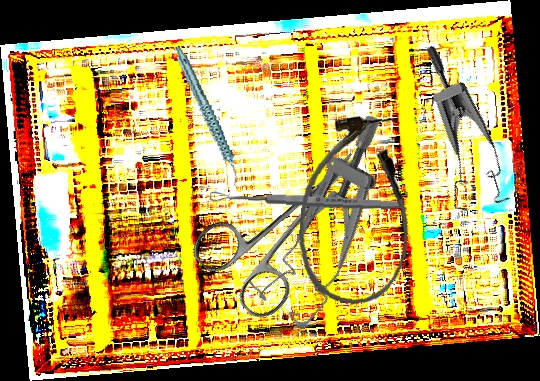Cannula: (293, 110, 418, 310)
Handpiece: (173, 40, 241, 191)
Iris Scissors: (185, 119, 395, 327)
Speculum: (230, 110, 439, 334), (367, 42, 537, 230)
Surgical Spoon: (209, 189, 401, 212)
